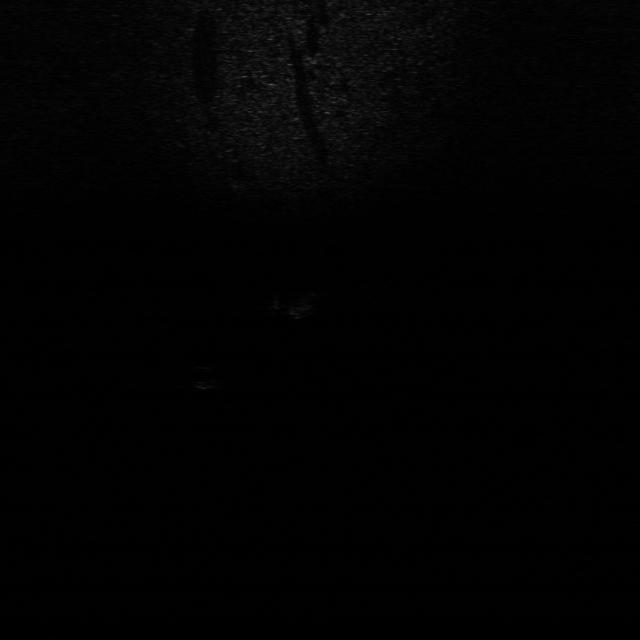ball: (170, 354, 234, 394)
human body: (270, 287, 320, 325)
